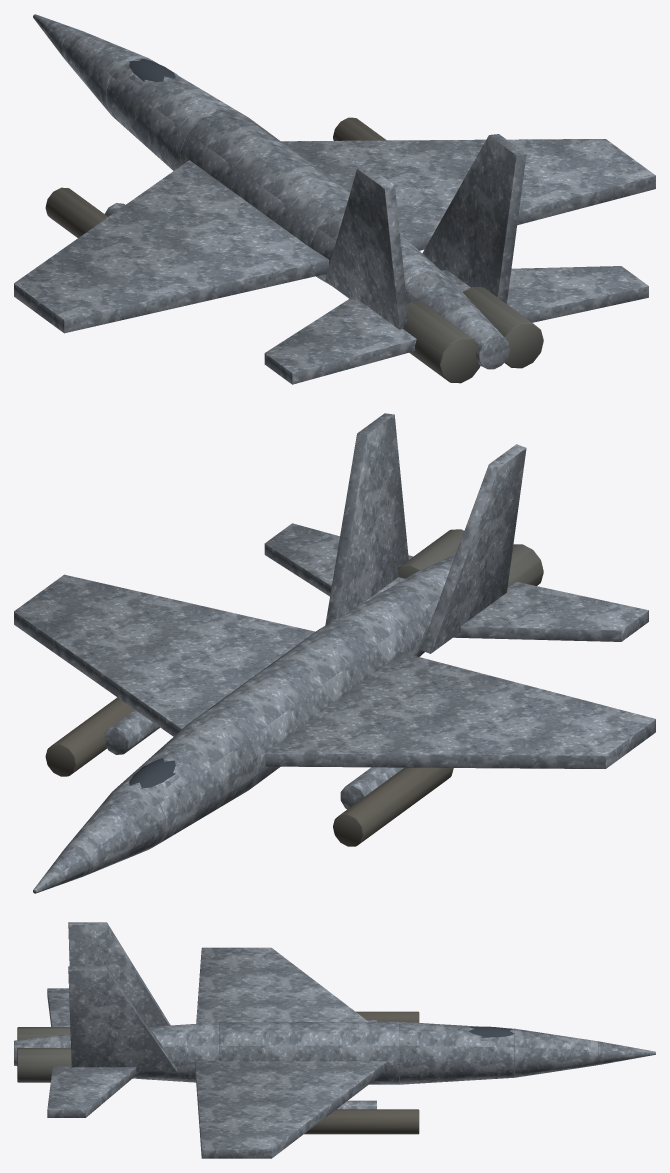
The model's file is air_e2_us_sead_LOD0.glb.
3 renders of one model, top to bottom at view 1: azimuth 30°, elevation 25°; view 2: azimuth 150°, elevation 25°; view 3: azimuth 270°, elevation 25°, orthographic. The views are drawn at different scales.
Visible parts, largest first — view 1: air_e2_us_sead_LOD0_body, air_e2_us_sead_LOD0_gun, air_e2_us_sead_LOD0_deck, air_e2_us_sead_LOD0_glass; view 2: air_e2_us_sead_LOD0_body, air_e2_us_sead_LOD0_deck, air_e2_us_sead_LOD0_gun, air_e2_us_sead_LOD0_glass; view 3: air_e2_us_sead_LOD0_body, air_e2_us_sead_LOD0_deck, air_e2_us_sead_LOD0_gun, air_e2_us_sead_LOD0_glass.
Part boxes in pixels (x1,y1,x2,y2): air_e2_us_sead_LOD0_body: [14, 14, 655, 384]; air_e2_us_sead_LOD0_gun: [403, 287, 543, 383]; air_e2_us_sead_LOD0_deck: [45, 117, 386, 237]; air_e2_us_sead_LOD0_glass: [129, 58, 175, 81]; air_e2_us_sead_LOD0_body: [14, 413, 655, 893]; air_e2_us_sead_LOD0_deck: [45, 697, 453, 846]; air_e2_us_sead_LOD0_gun: [397, 529, 543, 588]; air_e2_us_sead_LOD0_glass: [129, 758, 175, 788]; air_e2_us_sead_LOD0_body: [14, 922, 655, 1158]; air_e2_us_sead_LOD0_deck: [304, 1011, 419, 1134]; air_e2_us_sead_LOD0_gun: [17, 1027, 71, 1082]; air_e2_us_sead_LOD0_glass: [469, 1026, 514, 1037].
Size of the model in its own units: 13.6 by 4.36 by 18.3.
Materials: 4 (1 with a texture image).
